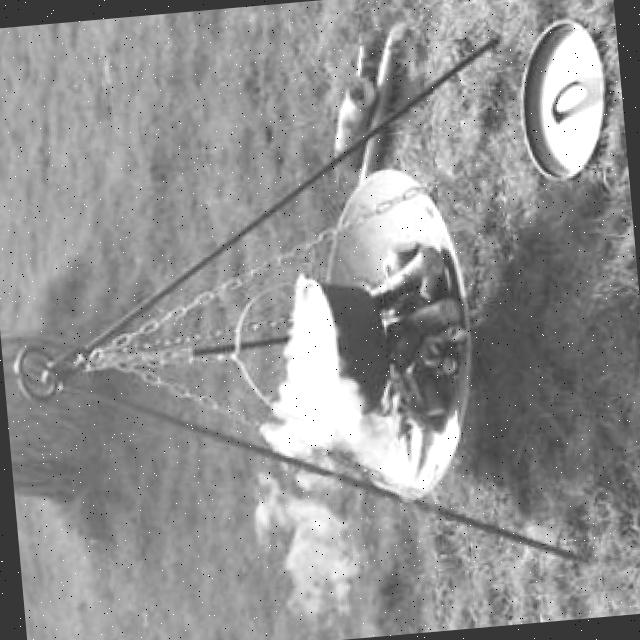fire: (222, 293, 394, 639)
